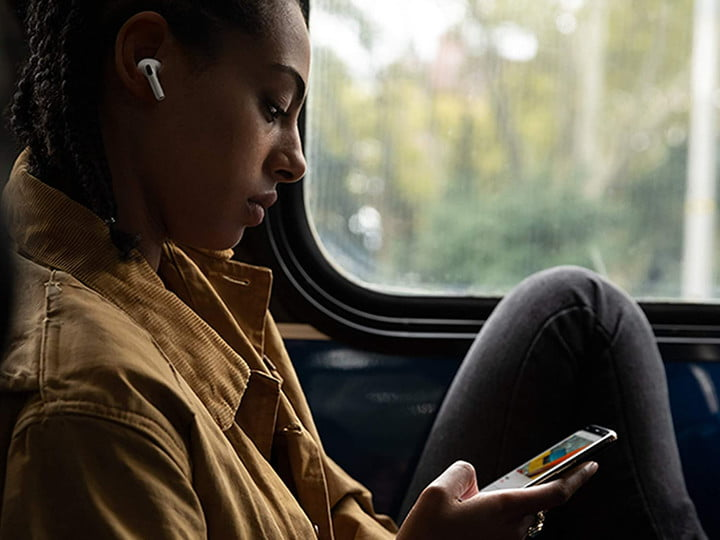earphone: (114, 12, 173, 105)
